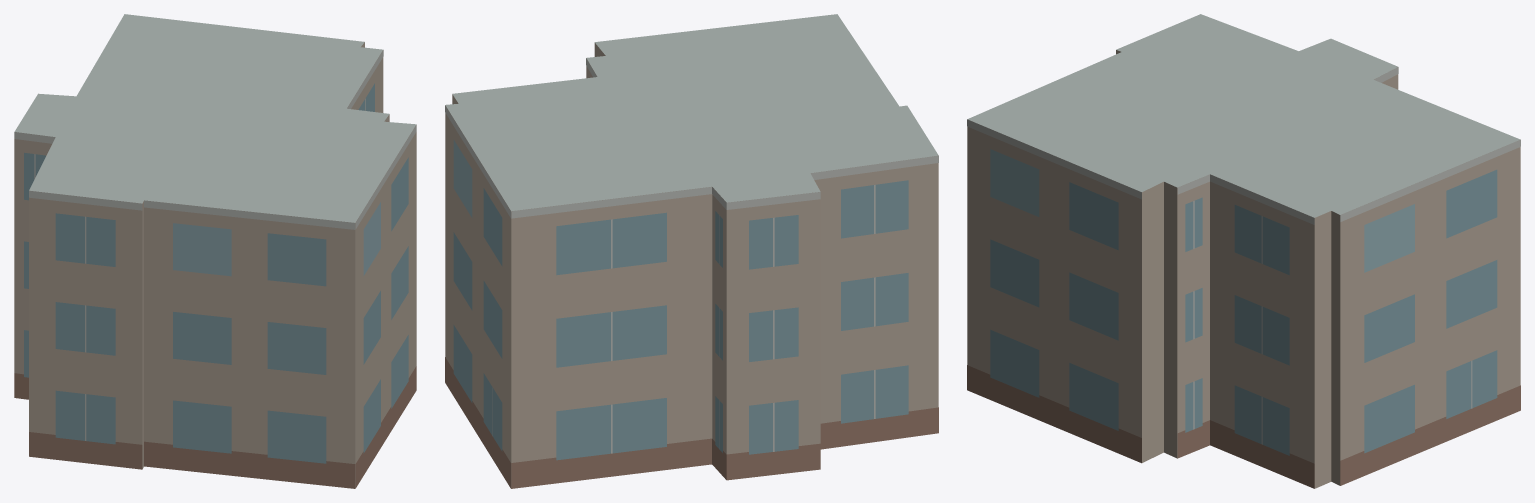
File: survey-upis-32942949.glb
3 views of the same model, side by side, from view 1: azimuth 30°, elevation 25°; view 2: azimuth 150°, elevation 25°; view 3: azimuth 270°, elevation 25° (orthographic). The views are drawn at different scales.
Parts seen in each view (by area): view 1: survey-upis-32942949.tmp; view 2: survey-upis-32942949.tmp; view 3: survey-upis-32942949.tmp.
Boxes of the visible parts, <box> form: survey-upis-32942949.tmp: <box>14,14,416,488</box>; survey-upis-32942949.tmp: <box>445,14,938,488</box>; survey-upis-32942949.tmp: <box>967,14,1520,488</box>.
Size of the model in its own units: 14.78 by 9.15 by 16.95.
